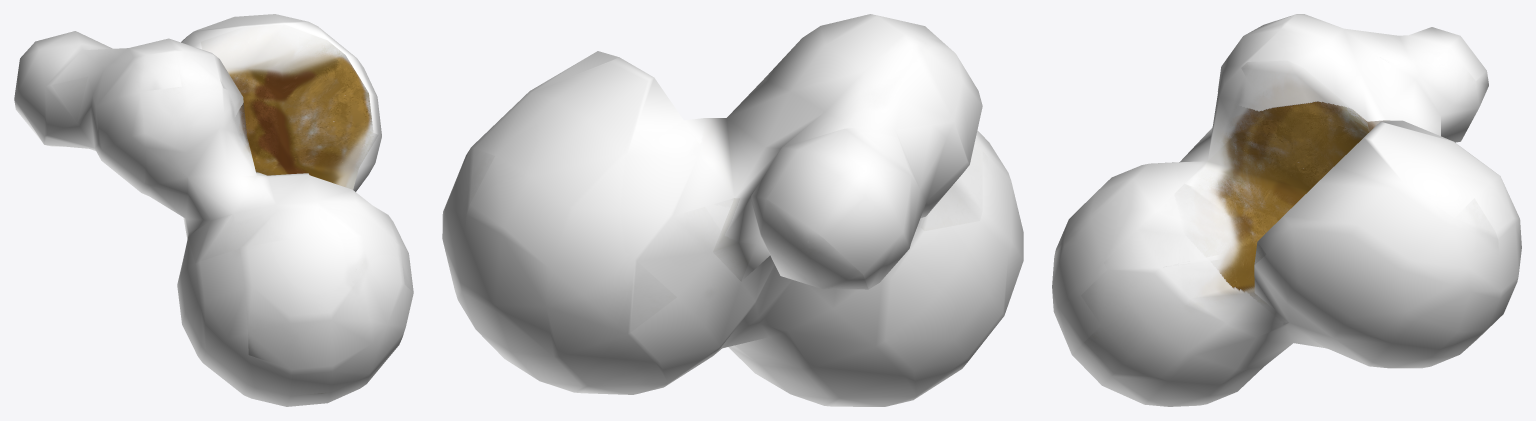
File: popcorn.gltf
The picture shows the model from 3 angles, left to right: view 1: azimuth 30°, elevation 25°; view 2: azimuth 150°, elevation 25°; view 3: azimuth 270°, elevation 25°; orthographic projection. The views are drawn at different scales.
Parts seen in each view (by area): view 1: popcorn2; view 2: popcorn2; view 3: popcorn2.
Part boxes in pixels (box(x1,y1,x2,y2)): popcorn2: box(14, 14, 413, 406); popcorn2: box(442, 14, 1023, 406); popcorn2: box(1052, 14, 1521, 406).
Size of the model in its own units: 0.1846 by 0.1727 by 0.2182.
Materials: 1 (1 with a texture image).
